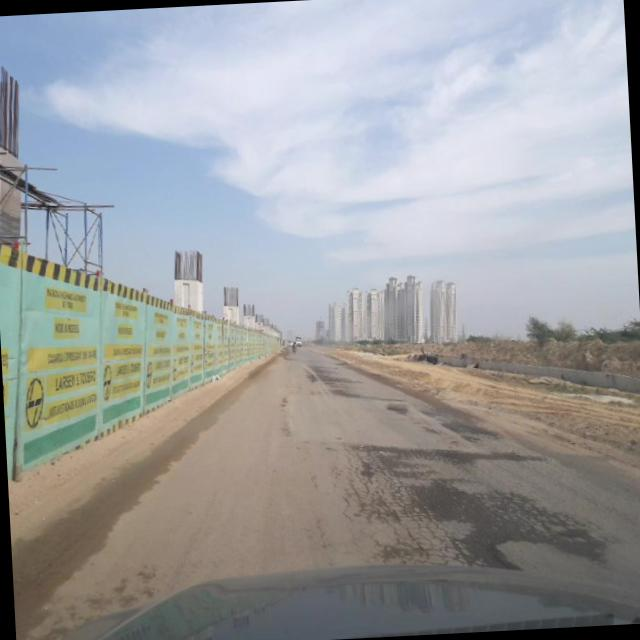crack: (326, 424, 625, 566)
